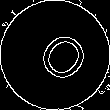O_SW: (22, 21, 88, 89)
